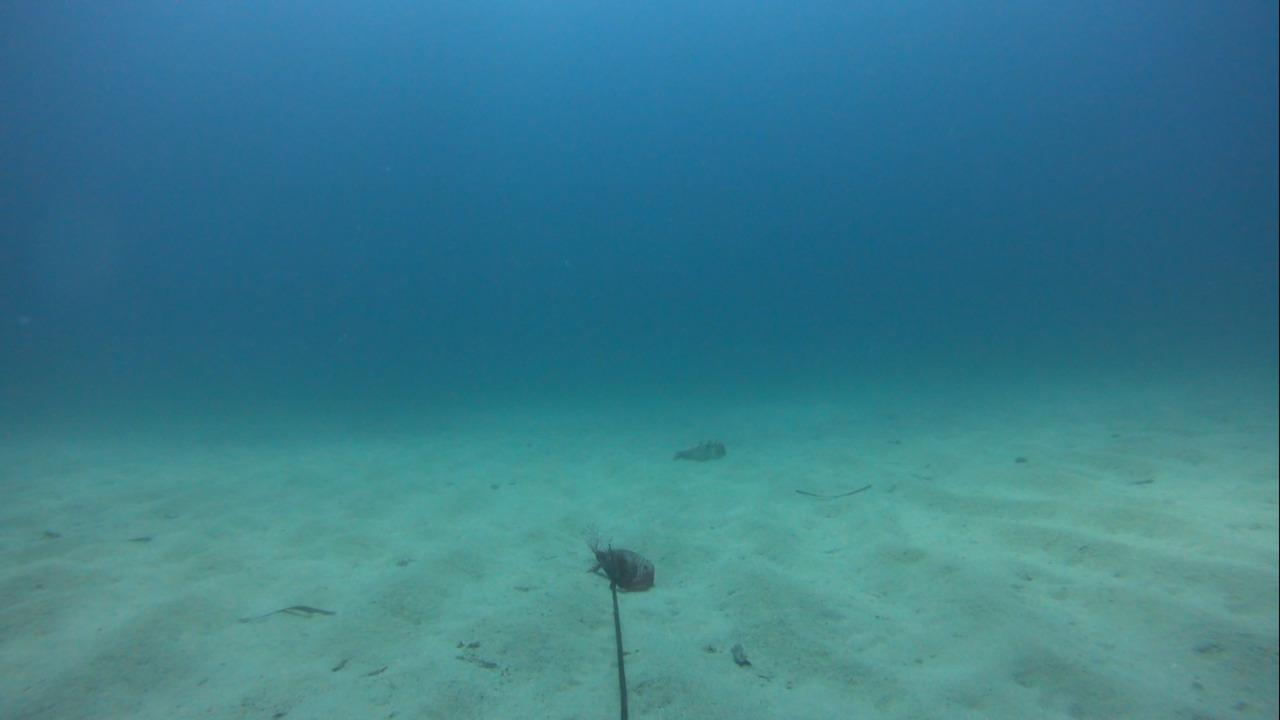raor: (663, 436, 732, 463)
